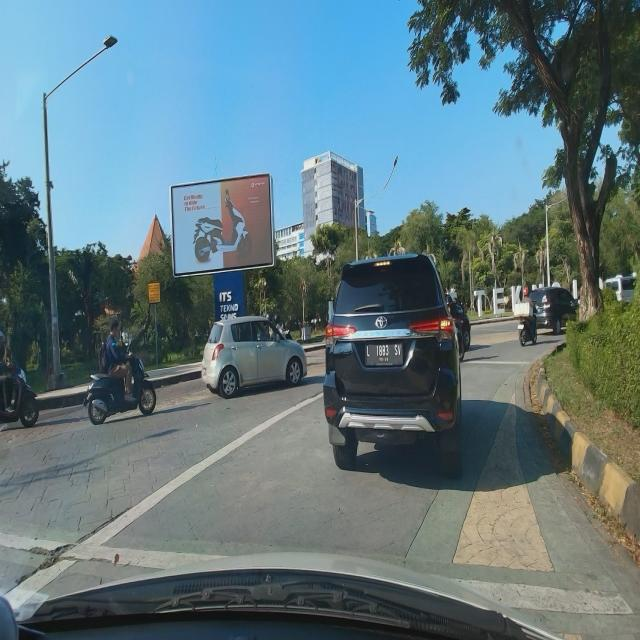car: (324, 248, 464, 481)
license-plate: (366, 341, 404, 365)
